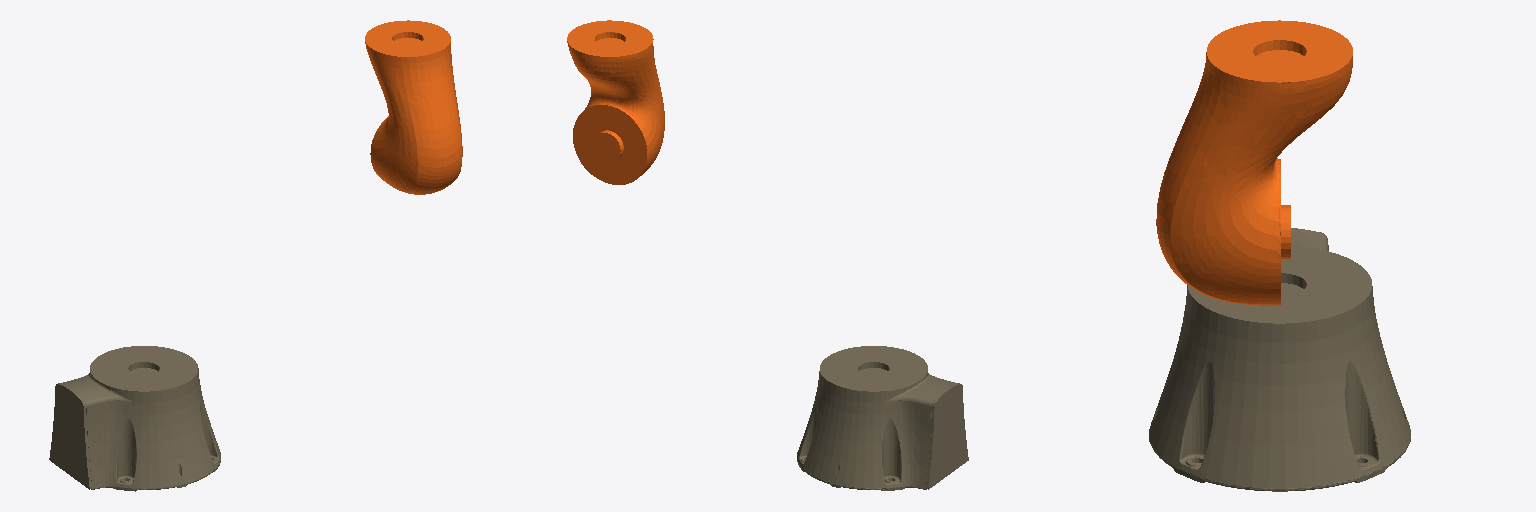
URDF robot description (kuka_kr6r900sixx):
<?xml version="1.0" encoding="utf-8"?>
<!-- =================================================================================== -->
<!-- |    This document was autogenerated by xacro from kr6r900sixx.xacro              | -->
<!-- |    EDITING THIS FILE BY HAND IS NOT RECOMMENDED                                 | -->
<!-- =================================================================================== -->
<robot name="kuka_kr6r900sixx">
  <!-- colours based on RAL values given in "FAQ - Colours of robot and robot
       controller", version "KUKA.Tifs | 2010-01-21 |YM| DefaultColorsRobotAndController.doc",
       downloaded 2015-07-18 from
       http://www.kuka.be/main/cservice/faqs/hardware/DefaultColorsRobotAndController.pdf

       all RAL colours converted using http://www.visual-graphics.de/en/customer-care/ral-colours
  -->
  <link name="base_link">
    <visual>
      <origin rpy="0 0 0" xyz="0 0 0"/>
      <geometry>
        <mesh filename="./meshes/kr6_agilus/visual/base_link.dae"/>
      </geometry>
      <material name="">
        <color rgba="0.505882352941 0.470588235294 0.388235294118 1.0"/>
      </material>
    </visual>
    <collision>
      <origin rpy="0 0 0" xyz="0 0 0"/>
      <geometry>
        <mesh filename="./meshes/kr6_agilus/collision/base_link.stl"/>
      </geometry>
    </collision>
  </link>
  <link name="link_1">
    <visual>
      <origin rpy="0 0 0" xyz="0 0 0"/>
      <geometry>
        <mesh filename="./meshes/kr6_agilus/visual/link_1.dae"/>
      </geometry>
      <material name="">
        <color rgba="0.964705882353 0.470588235294 0.156862745098 1.0"/>
      </material>
    </visual>
    <collision>
      <origin rpy="0 0 0" xyz="0 0 0"/>
      <geometry>
        <mesh filename="./meshes/kr6_agilus/collision/link_1.stl"/>
      </geometry>
    </collision>
  </link>
  <link name="link_2">
    <visual>
      <origin rpy="0 0 0" xyz="0 0 0"/>
      <geometry>
        <mesh filename="./meshes/kr6r900sixx/visual/link_2.dae"/>
      </geometry>
      <material name="">
        <color rgba="0.964705882353 0.470588235294 0.156862745098 1.0"/>
      </material>
    </visual>
    <collision>
      <origin rpy="0 0 0" xyz="0 0 0"/>
      <geometry>
        <mesh filename="./meshes/kr6r900sixx/collision/link_2.stl"/>
      </geometry>
    </collision>
  </link>
  <link name="link_3">
    <visual>
      <origin rpy="0 0 0" xyz="0 0 0"/>
      <geometry>
        <mesh filename="./meshes/kr6_agilus/visual/link_3.dae"/>
      </geometry>
      <material name="">
        <color rgba="0.964705882353 0.470588235294 0.156862745098 1.0"/>
      </material>
    </visual>
    <collision>
      <origin rpy="0 0 0" xyz="0 0 0"/>
      <geometry>
        <mesh filename="./meshes/kr6_agilus/collision/link_3.stl"/>
      </geometry>
    </collision>
  </link>
  <link name="link_4">
    <visual>
      <origin rpy="0 0 0" xyz="0 0 0"/>
      <geometry>
        <mesh filename="./meshes/kr6r900sixx/visual/link_4.dae"/>
      </geometry>
      <material name="">
        <color rgba="0.964705882353 0.470588235294 0.156862745098 1.0"/>
      </material>
    </visual>
    <collision>
      <origin rpy="0 0 0" xyz="0 0 0"/>
      <geometry>
        <mesh filename="./meshes/kr6r900sixx/collision/link_4.stl"/>
      </geometry>
    </collision>
  </link>
  <link name="link_5">
    <visual>
      <origin rpy="0 0 0" xyz="0 0 0"/>
      <geometry>
        <mesh filename="./meshes/kr6_agilus/visual/link_5.dae"/>
      </geometry>
      <material name="">
        <color rgba="0.964705882353 0.470588235294 0.156862745098 1.0"/>
      </material>
    </visual>
    <collision>
      <origin rpy="0 0 0" xyz="0 0 0"/>
      <geometry>
        <mesh filename="./meshes/kr6_agilus/collision/link_5.stl"/>
      </geometry>
    </collision>
  </link>
  <link name="link_6">
    <visual>
      <origin rpy="0 0 0" xyz="0 0 0"/>
      <geometry>
        <mesh filename="./meshes/kr6_agilus/visual/link_6.dae"/>
      </geometry>
      <material name="">
        <color rgba="0.505882352941 0.470588235294 0.388235294118 1.0"/>
      </material>
    </visual>
    <collision>
      <origin rpy="0 0 0" xyz="0 0 0"/>
      <geometry>
        <mesh filename="./meshes/kr6_agilus/collision/link_6.stl"/>
      </geometry>
    </collision>
  </link>
  <!-- This frame corresponds to the $FLANGE coordinate system in KUKA KRC controllers. -->
  <link name="tool0"/>
  <joint name="joint_a1" type="revolute">
    <origin rpy="0 0 0" xyz="0 0 0.400"/>
    <parent link="base_link"/>
    <child link="link_1"/>
    <axis xyz="0 0 -1"/>
    <limit effort="0" lower="-2.96705972839" upper="2.96705972839" velocity="6.28318530718"/>
  </joint>
  <joint name="joint_a2" type="revolute">
    <origin rpy="0 0 0" xyz="0.025 0 0"/>
    <parent link="link_1"/>
    <child link="link_2"/>
    <axis xyz="0 1 0"/>
    <limit effort="0" lower="-3.31612557879" upper="0.785398163397" velocity="5.23598775598"/>
  </joint>
  <joint name="joint_a3" type="revolute">
    <origin rpy="0 0 0" xyz="0.455 0 0"/>
    <parent link="link_2"/>
    <child link="link_3"/>
    <axis xyz="0 1 0"/>
    <limit effort="0" lower="-2.09439510239" upper="2.72271363311" velocity="6.28318530718"/>
  </joint>
  <joint name="joint_a4" type="revolute">
    <origin rpy="0 0 0" xyz="0 0 0.035"/>
    <parent link="link_3"/>
    <child link="link_4"/>
    <axis xyz="-1 0 0"/>
    <limit effort="0" lower="-3.22885911619" upper="3.22885911619" velocity="6.6497044501"/>
  </joint>
  <joint name="joint_a5" type="revolute">
    <origin rpy="0 0 0" xyz="0.420 0 0"/>
    <parent link="link_4"/>
    <child link="link_5"/>
    <axis xyz="0 1 0"/>
    <limit effort="0" lower="-2.09439510239" upper="2.09439510239" velocity="6.77187749774"/>
  </joint>
  <joint name="joint_a6" type="revolute">
    <origin rpy="0 0 0" xyz="0.080 0 0"/>
    <parent link="link_5"/>
    <child link="link_6"/>
    <axis xyz="-1 0 0"/>
    <limit effort="0" lower="-6.10865238198" upper="6.10865238198" velocity="10.7337748998"/>
  </joint>
  <joint name="joint_a6-tool0" type="fixed">
    <parent link="link_6"/>
    <child link="tool0"/>
    <origin rpy="0 1.57079632679 0" xyz="0 0 0"/>
  </joint>
  <!-- ROS base_link to KUKA $ROBROOT coordinate system transform -->
  <link name="base"/>
  <joint name="base_link-base" type="fixed">
    <origin rpy="0 0 0" xyz="0 0 0"/>
    <parent link="base_link"/>
    <child link="base"/>
  </joint>
</robot>

--- Facts derived from the render (not from the file) ---
The picture shows the robot from 3 angles, left to right: view 1: azimuth 30°, elevation 25°; view 2: azimuth 150°, elevation 25°; view 3: azimuth 270°, elevation 25°; orthographic projection.
Robot: kuka_kr6r900sixx — 9 links, 8 joints (6 revolute, 2 fixed); root link base_link; default pose: every joint at zero.
Links seen in each view (by area): view 1: base_link, link_4; view 2: base_link, link_4; view 3: base_link, link_4.
Link boxes in pixels (x1,y1,x2,y2): base_link: [49, 346, 220, 491]; link_4: [365, 20, 462, 194]; base_link: [797, 346, 968, 490]; link_4: [567, 20, 664, 184]; base_link: [1149, 228, 1410, 491]; link_4: [1156, 20, 1352, 305].
Size in the robot's own frame: 0.684 by 0.2426 by 0.6195 metres.
Meshes: 7 distinct files referenced, 2 mesh visuals loaded (2 Collada DAE); not drawn: 5 (reference not matched to a file when rendering).